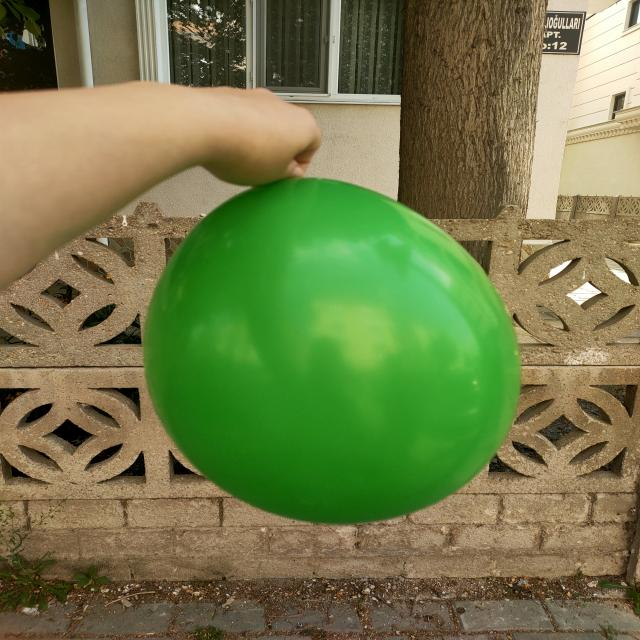green: (144, 179, 524, 526)
